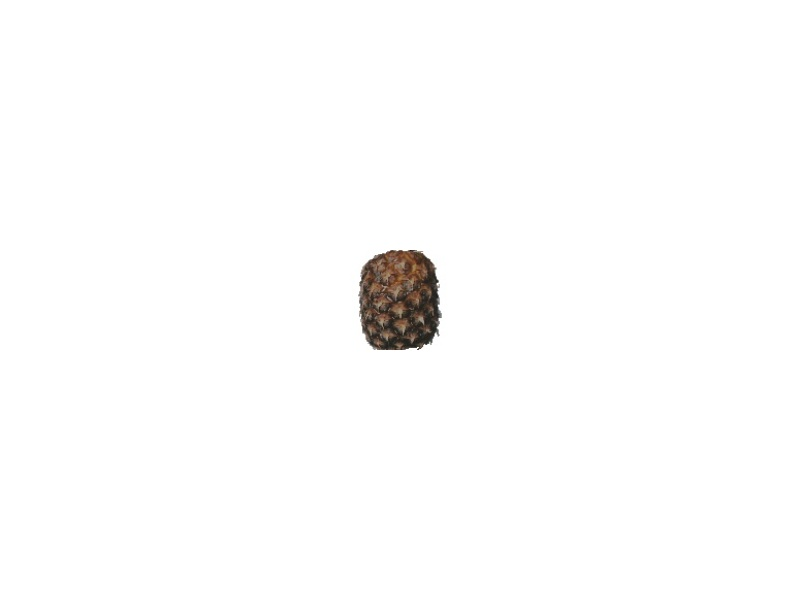abacaxi: (354, 247, 444, 355)
